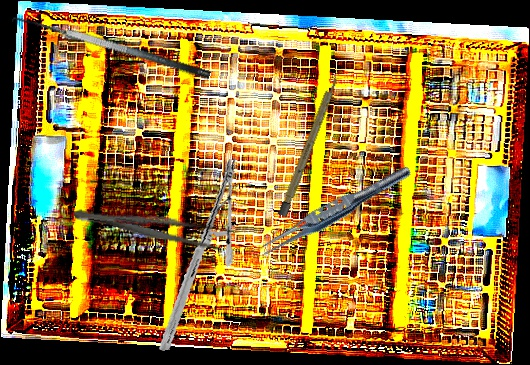Dressing Forceps: (71, 201, 237, 253)
Needle Holder: (131, 157, 266, 352)
Scalpel Handle: (277, 73, 341, 218)
Spatula Surgical: (7, 7, 212, 97)
Tissue Forceps: (252, 158, 415, 265)
